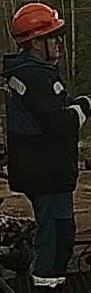gloves: (74, 93, 91, 118)
helmet: (9, 2, 65, 45)
vest: (2, 57, 79, 194)
